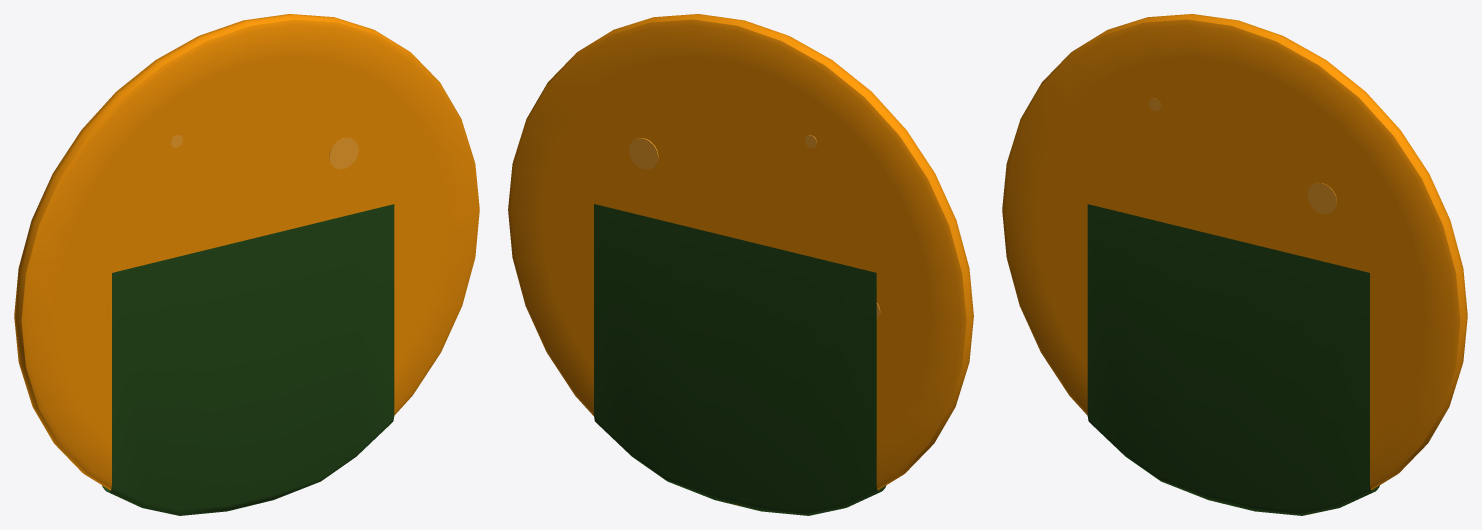
The model's file is rice_cracker.glb.
3 views of the same model, side by side, from view 1: azimuth 30°, elevation 25°; view 2: azimuth 150°, elevation 25°; view 3: azimuth 330°, elevation 25° (orthographic).
Visible parts, largest first — view 1: Plane.216; view 2: Plane.216; view 3: Plane.216.
Boxes of the visible parts, box(x1,y1,x2,y2) form: Plane.216: box(14, 14, 479, 515); Plane.216: box(508, 14, 973, 515); Plane.216: box(1002, 14, 1467, 515).
Size of the model in its own units: 2.4 by 2.4 by 0.1051.
1 material, 1 textured.
